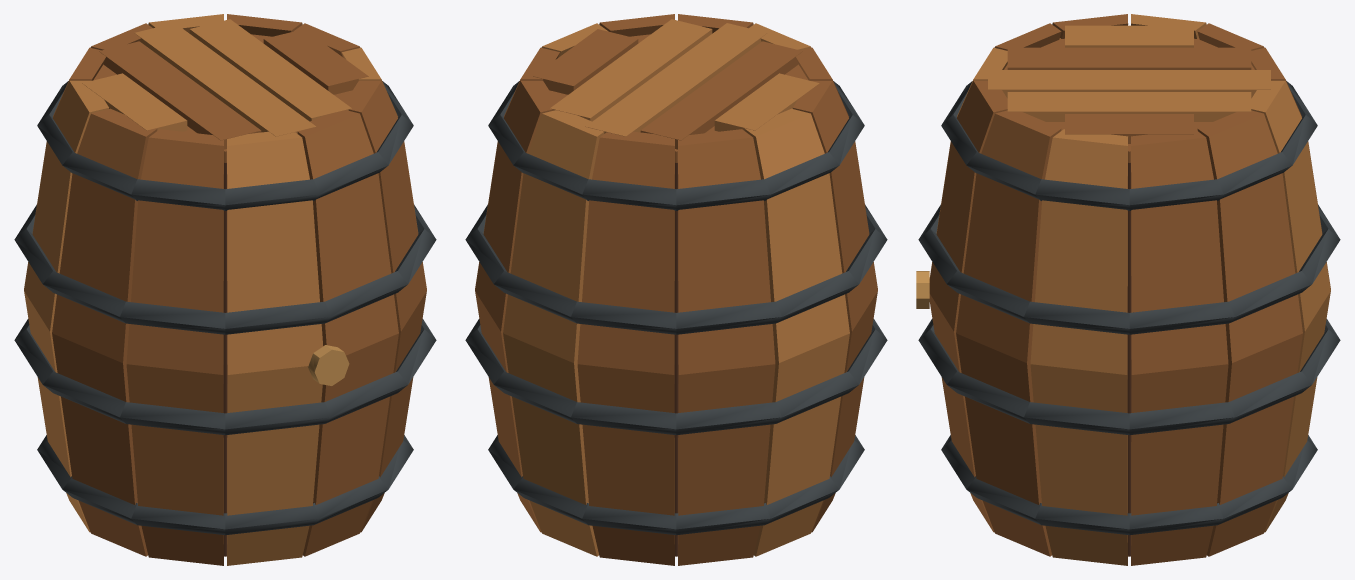
The model's file is 19_oak_barrel.fbx.
The picture shows the model from 3 angles, left to right: view 1: azimuth 30°, elevation 25°; view 2: azimuth 150°, elevation 25°; view 3: azimuth 270°, elevation 25°; orthographic projection.
Parts seen in each view (by area): view 1: 19_oak_barrel; view 2: 19_oak_barrel; view 3: 19_oak_barrel.
Boxes of the visible parts, x1=… form: 19_oak_barrel: x1=14, y1=14, x2=436, y2=565; 19_oak_barrel: x1=465, y1=14, x2=887, y2=565; 19_oak_barrel: x1=916, y1=14, x2=1340, y2=565.
Bounding box in the file's own units: 0.838 × 0.9205 × 0.842.
1 material, 1 textured.
